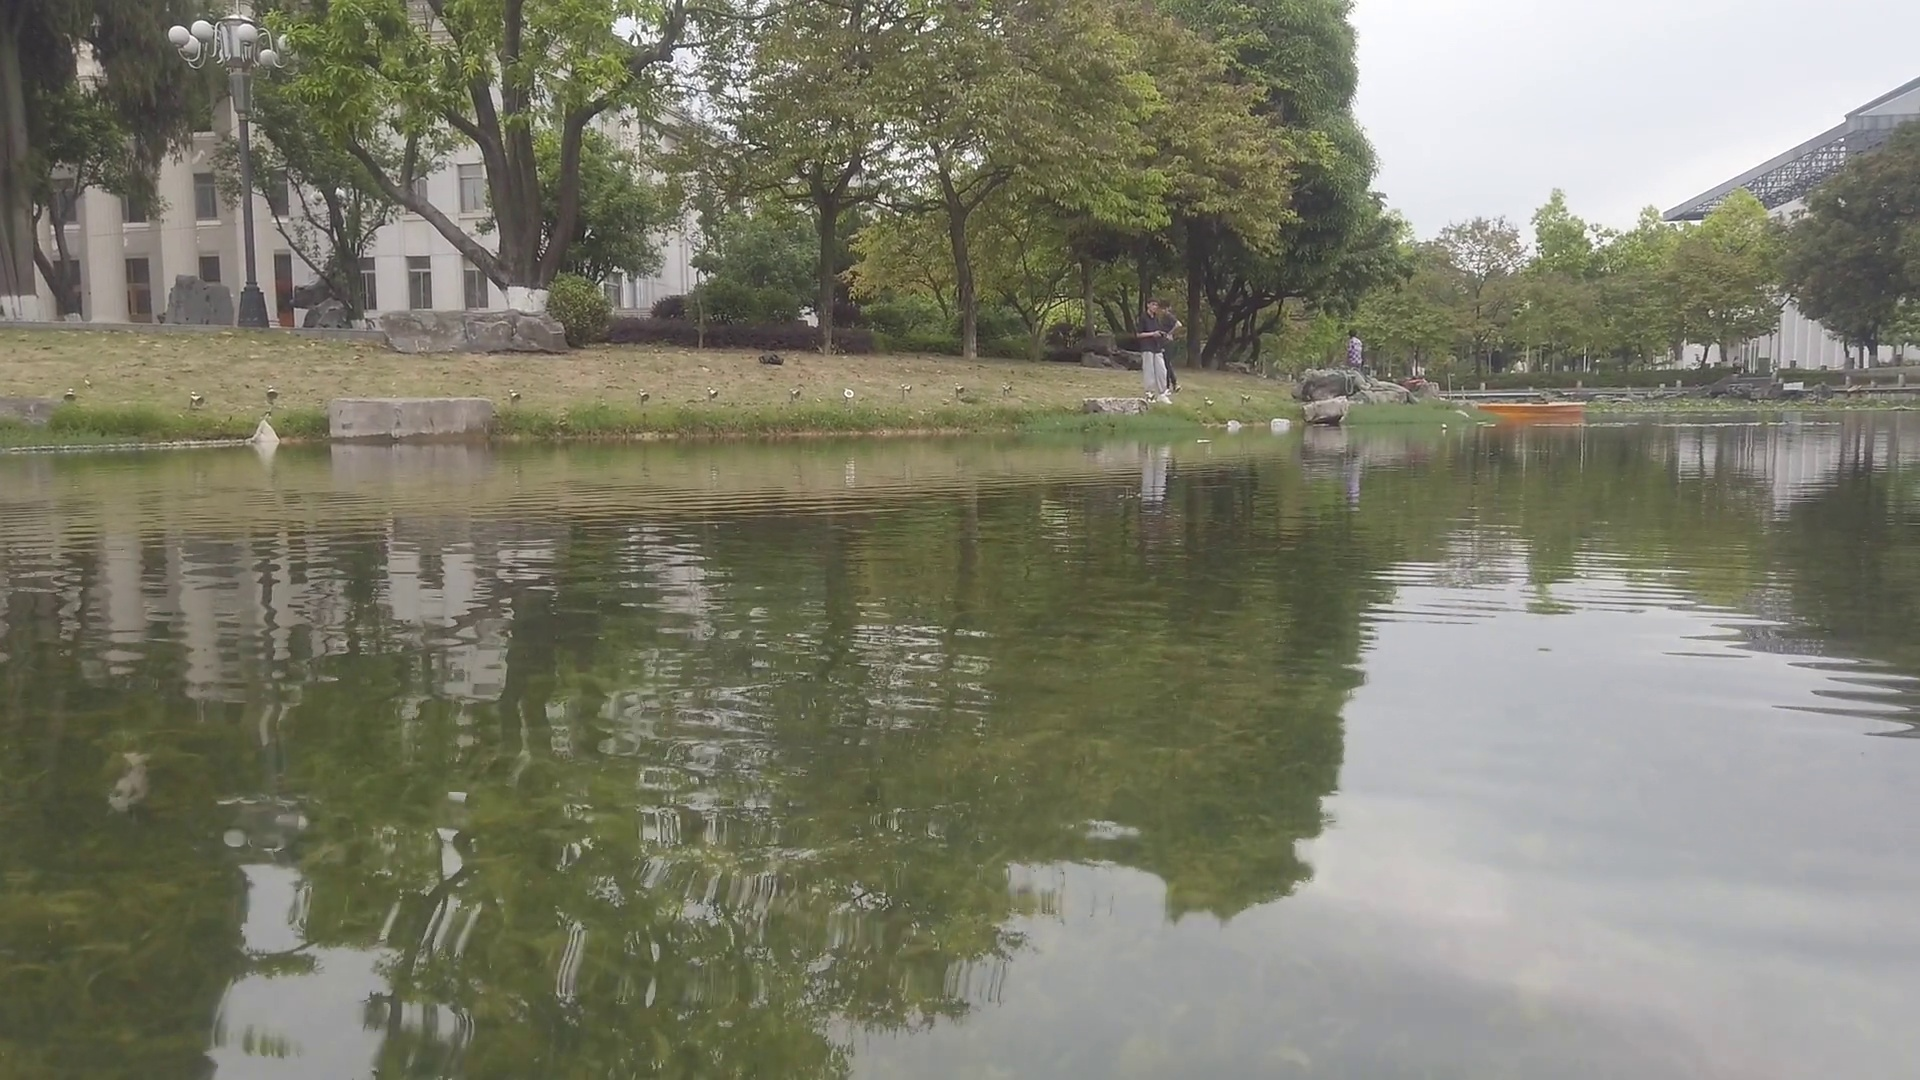bottle: (1441, 423, 1449, 429)
paper: (1196, 436, 1211, 444)
plastic: (1226, 418, 1242, 431), (1271, 419, 1290, 429)
